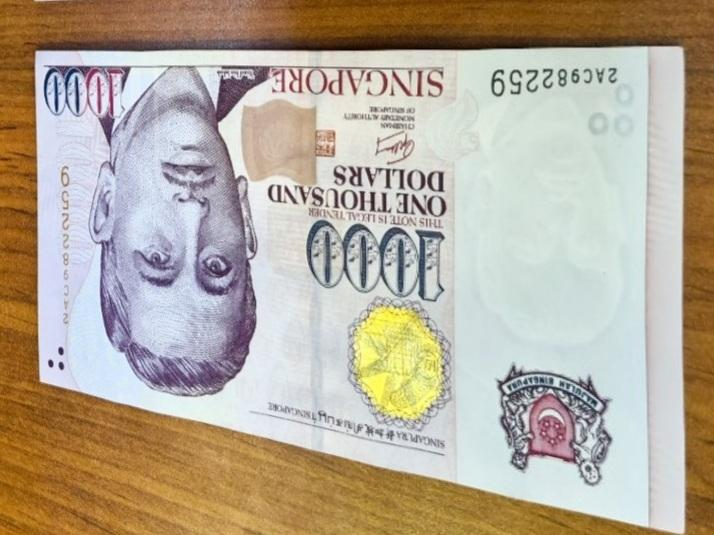1000SingaporeDollar: (38, 52, 681, 486)
